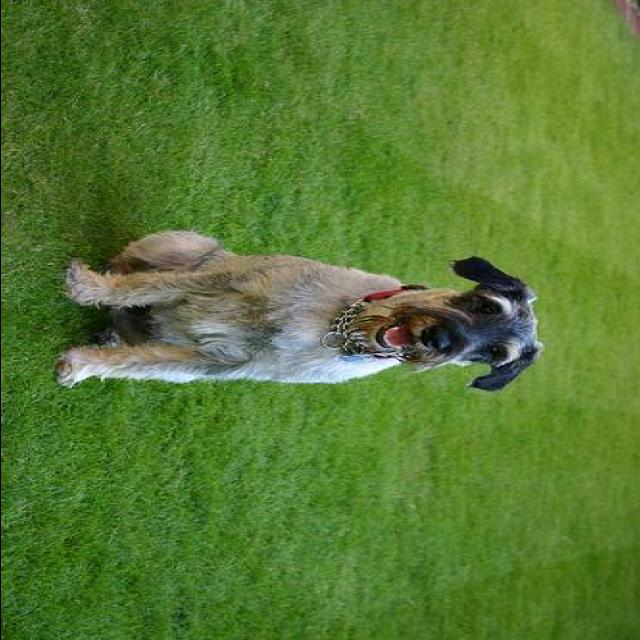standard_schnauzer: (54, 228, 544, 396)
